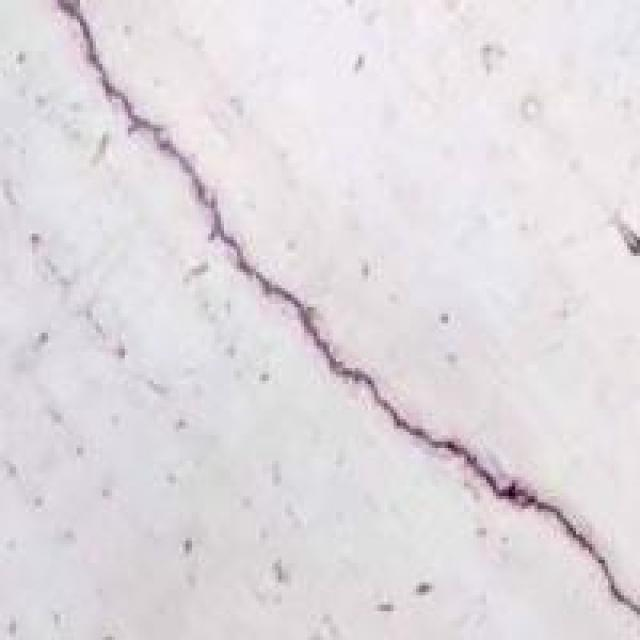crack: (54, 0, 637, 611)
